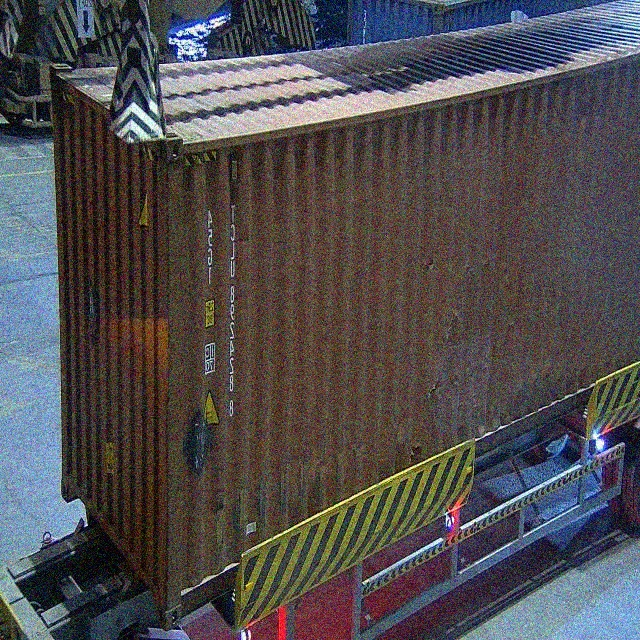Dent: (245, 457, 341, 523), (478, 377, 587, 429), (442, 247, 495, 347), (429, 358, 487, 406), (408, 417, 433, 474), (423, 247, 440, 282)
Hole: (207, 482, 232, 555)
